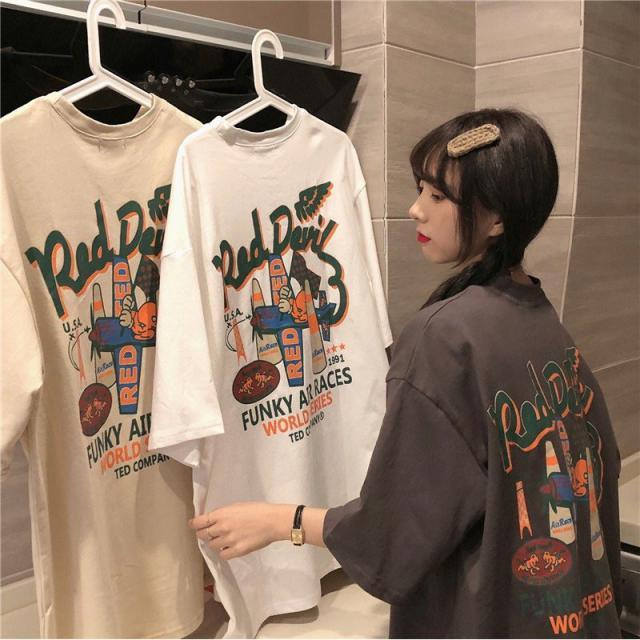Shirt: (148, 95, 382, 635), (1, 83, 213, 639), (332, 280, 626, 640)
